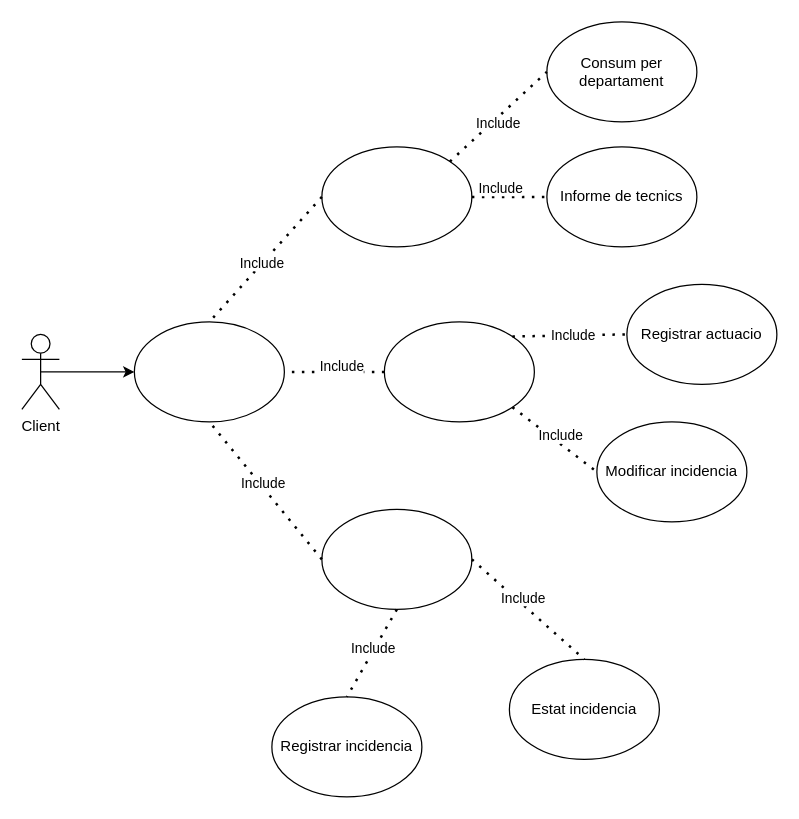
This 799x819 diagram has some shape labels left out. The shapes that lost their labels are listed below. From the top down, each one's box as (x1, y1, x2, y2) in pixels, then its label:
(321, 146, 472, 247): Accedir com administrador
(133, 321, 284, 422): Escollir tipus de usuari
(383, 321, 534, 422): Accedir com técnic
(321, 508, 472, 609): Accedir con usuari normal
